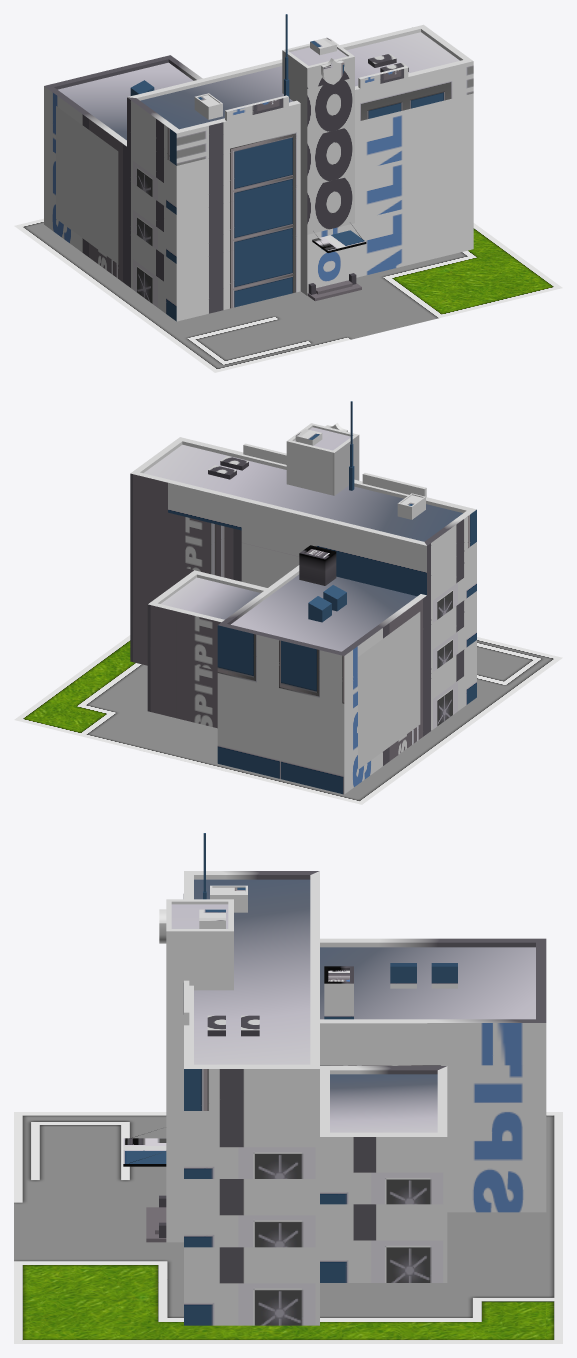
Rendered from Police_Lvl_3.fbx.
3 views of the same model, one above another, from view 1: azimuth 30°, elevation 25°; view 2: azimuth 150°, elevation 25°; view 3: azimuth 270°, elevation 25° (orthographic). The views are drawn at different scales.
Visible parts, largest first — view 1: PoliceDept_Lvl_3, Police_BG, Graffiti_001; view 2: PoliceDept_Lvl_3, Police_BG, Graffiti_001; view 3: PoliceDept_Lvl_3, Police_BG.
Boxes of the visible parts, x1,y1,x2,y2 form: PoliceDept_Lvl_3: [44, 14, 473, 321]; Police_BG: [14, 218, 562, 372]; Graffiti_001: [56, 106, 118, 263]; PoliceDept_Lvl_3: [130, 401, 476, 794]; Police_BG: [14, 635, 562, 804]; Graffiti_001: [358, 612, 420, 769]; PoliceDept_Lvl_3: [123, 833, 546, 1325]; Police_BG: [14, 1112, 562, 1343].
Size of the model in its own units: 2000 by 1498 by 2000.
